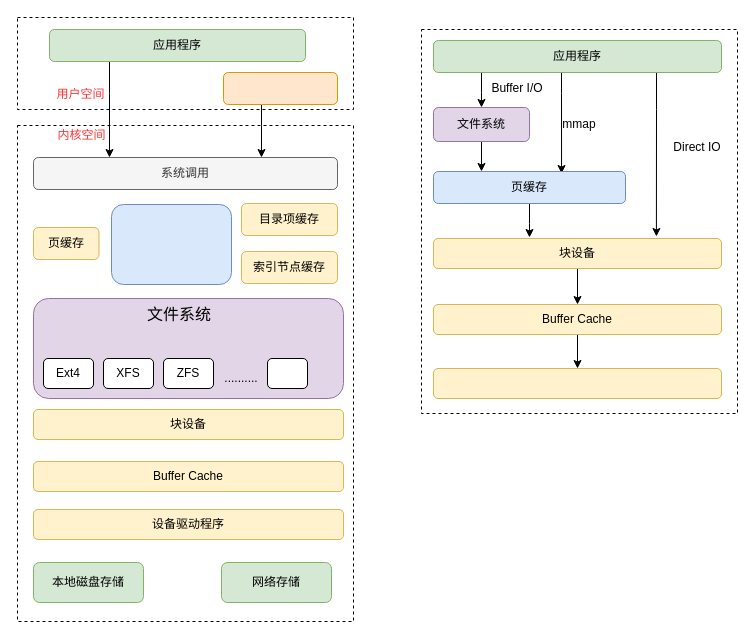
This 755x639 diagram has some shape labels left out. The box of each missing label's shape, as (x1, y1, x2, y2) in pixels:
NFS: (266, 358, 308, 388)
库函数: (222, 72, 338, 104)
磁盘: (432, 368, 722, 398)
虚拟文件系统（VFS）: (110, 204, 232, 284)
